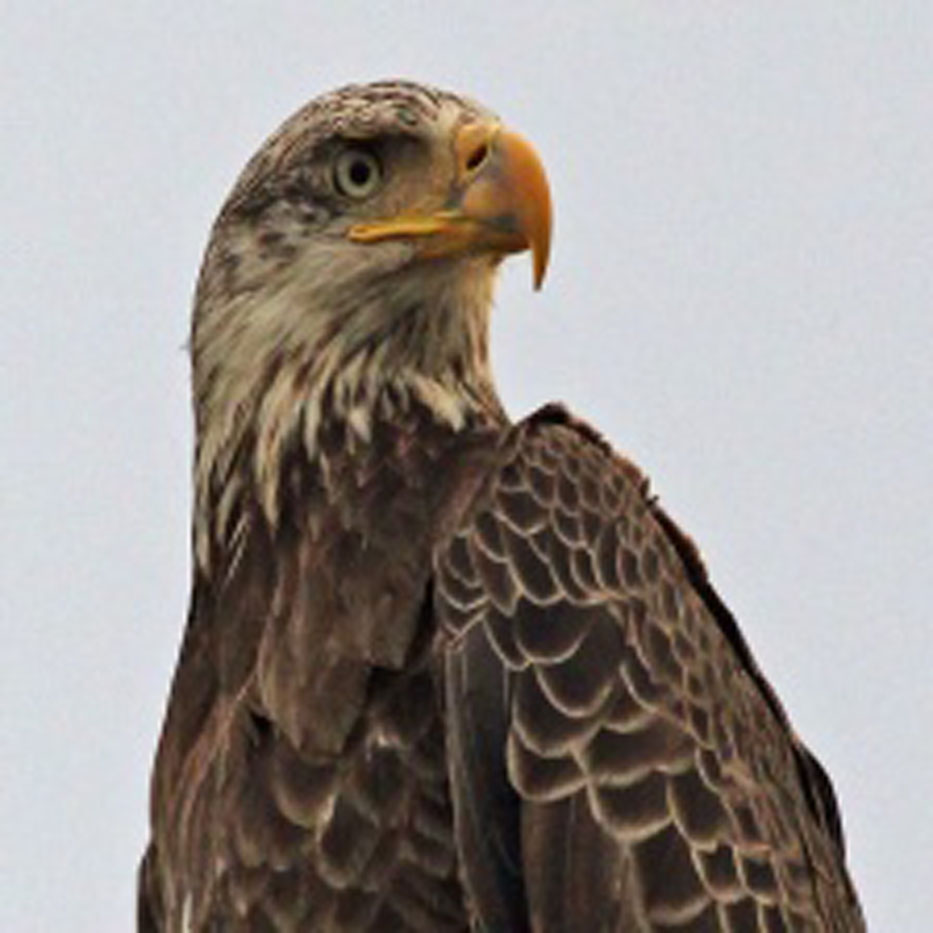Pengoyak Daging: (444, 108, 581, 308)
